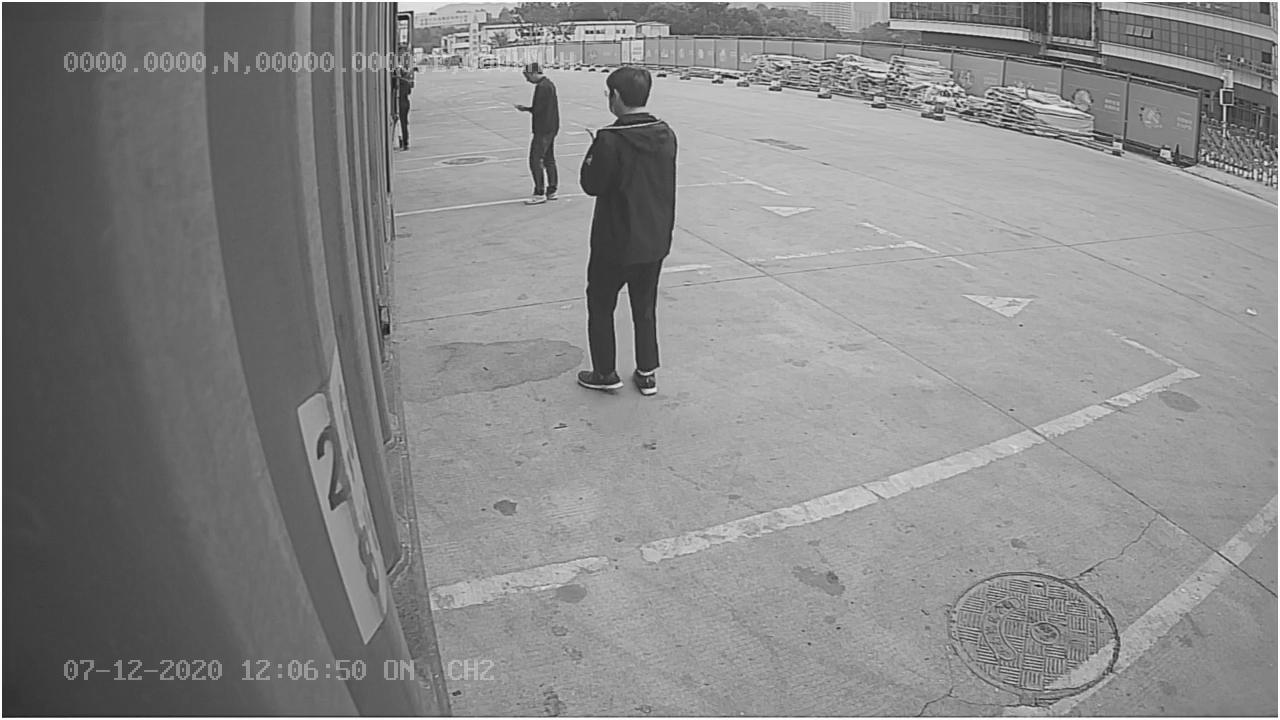person: (578, 62, 680, 401)
